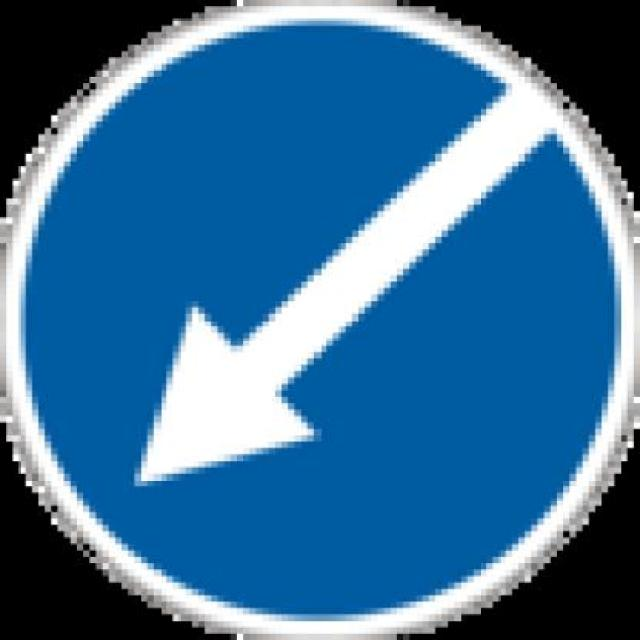Keep-Left: (6, 0, 634, 634)
